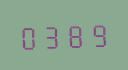eight: (64, 19, 86, 49)
nine: (87, 19, 109, 48)
three: (41, 20, 63, 50)
zero: (18, 21, 40, 50)
